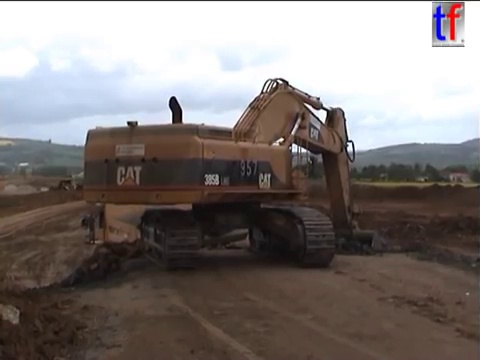excavator: (79, 74, 388, 271)
truck: (79, 199, 248, 275), (48, 176, 75, 194)
